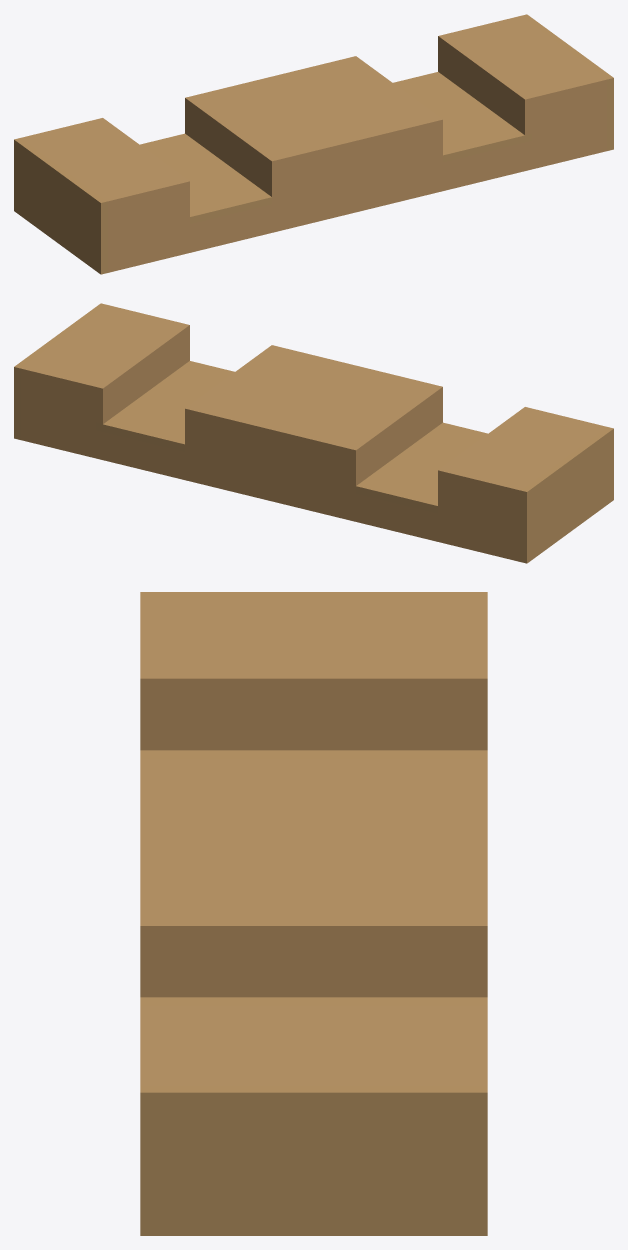
The model's file is notched_plank.glb.
The picture shows the model from 3 angles, top to bottom: view 1: azimuth 30°, elevation 25°; view 2: azimuth 150°, elevation 25°; view 3: azimuth 270°, elevation 25°; orthographic projection. The views are drawn at different scales.
Parts seen in each view (by area): view 1: notched_plank:compound; view 2: notched_plank:compound; view 3: notched_plank:compound.
Boxes of the visible parts, box(x1,y1,x2,y2) form: notched_plank:compound: box(14, 14, 613, 274); notched_plank:compound: box(14, 303, 613, 563); notched_plank:compound: box(140, 592, 487, 1235).
Size of the model in its own units: 0.3 by 0.04 by 0.088.
